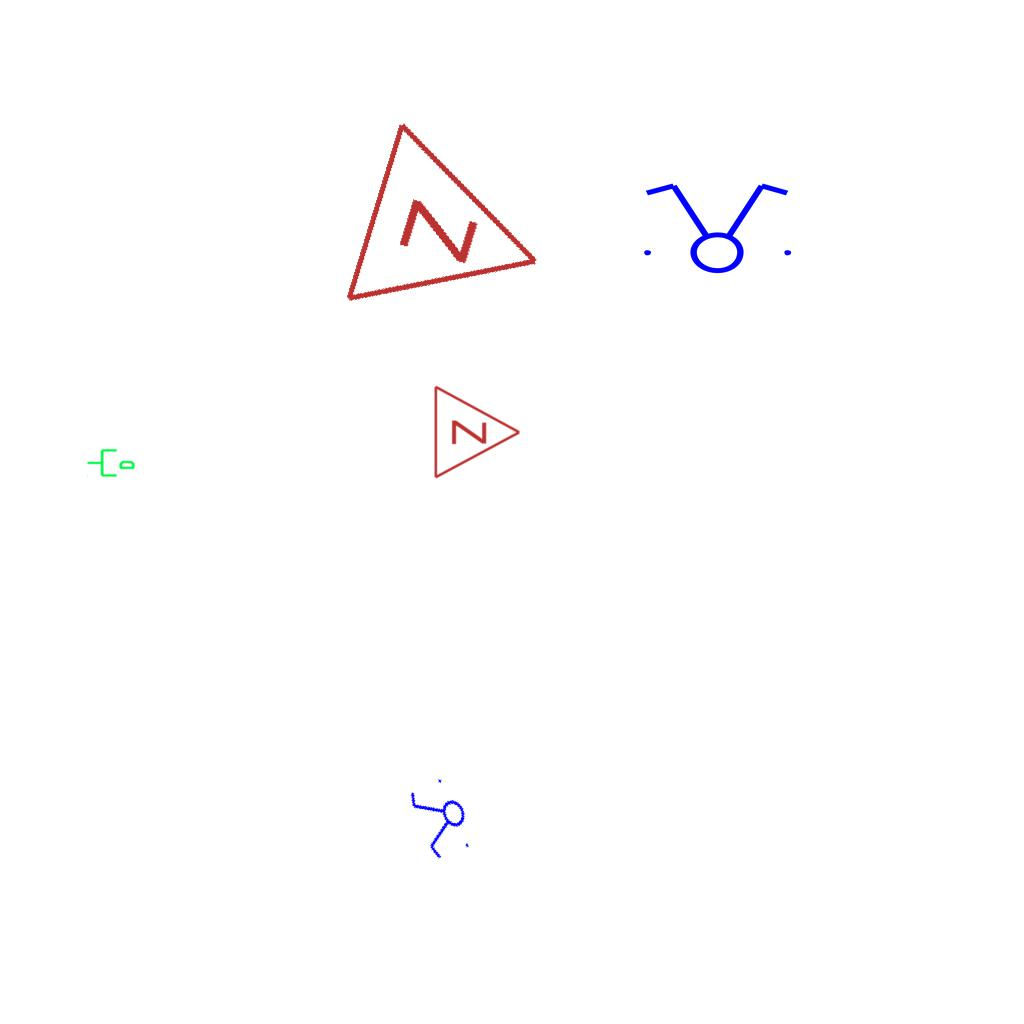Datenanschluss_einfach: (86, 445, 136, 479)
Serienschalter: (632, 179, 800, 275), (403, 770, 481, 868)
Zimmersignalleuchte: (330, 111, 580, 357), (427, 382, 527, 480)
